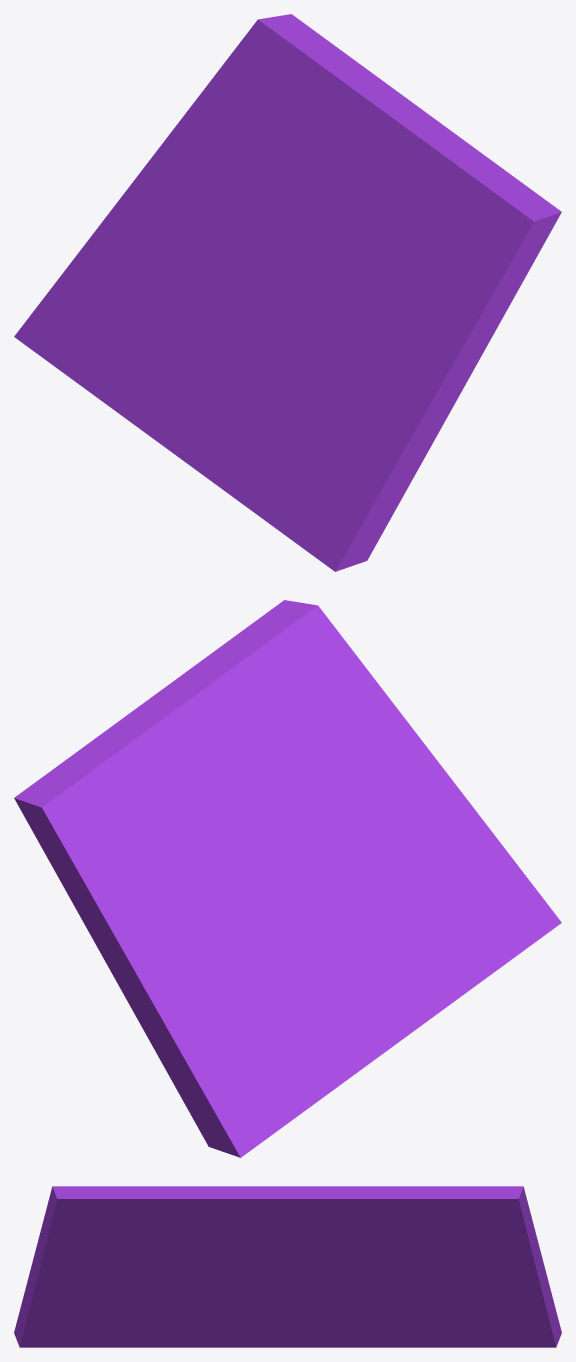
Rendered from Window_115_chunks.fbx.
3 renders of one model, top to bottom at view 1: azimuth 30°, elevation 25°; view 2: azimuth 150°, elevation 25°; view 3: azimuth 270°, elevation 25°, orthographic. The views are drawn at different scales.
Parts seen in each view (by area): view 1: Window_115_2, Window_115_3, Window_115_1, Window_115_0; view 2: Window_115_2, Window_115_3, Window_115_1, Window_115_0; view 3: Window_115_2, Window_115_3, Window_115_0, Window_115_1.
Part boxes in pixels (x1,y1,x2,y2): Window_115_2: (14,14,372,396); Window_115_3: (291,73,561,404); Window_115_1: (96,270,378,571); Window_115_0: (349,341,461,565); Window_115_2: (14,738,321,1157); Window_115_3: (95,600,444,860); Window_115_1: (277,828,561,1097); Window_115_0: (360,771,507,852); Window_115_2: (291,1186,561,1347); Window_115_3: (32,1186,379,1275); Window_115_0: (17,1263,308,1347); Window_115_1: (14,1297,387,1347).
Bounding box in the file's own units: 720 × 763 × 1588.
